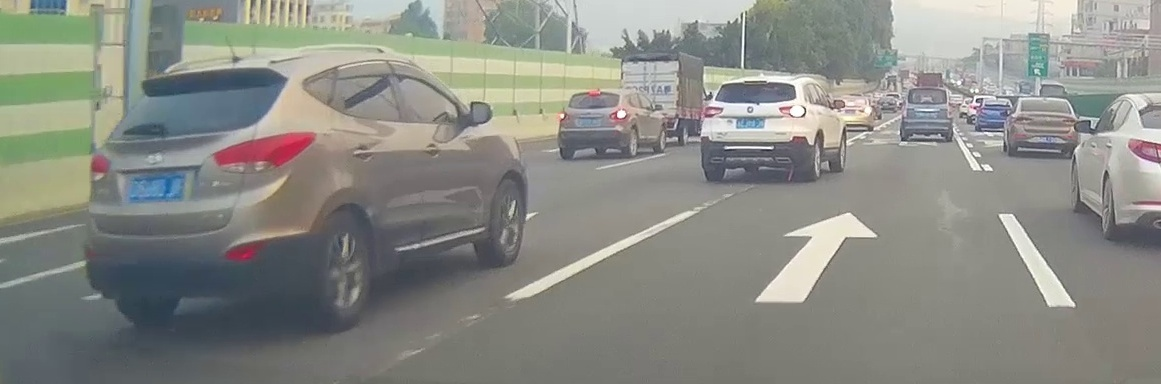L_light: (88, 150, 110, 179), (704, 106, 723, 117), (1016, 116, 1032, 122), (560, 112, 567, 120), (903, 108, 907, 116)
R_light: (211, 131, 316, 170), (779, 105, 805, 118), (610, 109, 627, 120), (1062, 118, 1077, 122), (948, 108, 952, 117)
T_light: (171, 78, 211, 85), (745, 80, 767, 83), (589, 91, 600, 95), (1042, 100, 1049, 103), (924, 89, 932, 91)
day-brake: (558, 90, 627, 159)
day-no: (83, 61, 318, 326), (700, 79, 806, 181), (1014, 98, 1080, 156), (901, 88, 952, 142)
